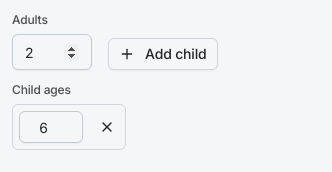
Test: TravellerCountsEditor › removing the last age returns to the free Children input (legacy shape, no invented data)
Click the button named "remove child 1" at (107, 127), box [95,115,119,139]
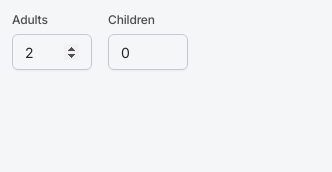
Result: the number field labelled "Children" is shown at [108,34,188,70]
